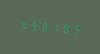eight: (58, 20, 67, 35), (38, 19, 47, 33)
five: (68, 21, 77, 35)
four: (17, 17, 26, 32)
nine: (27, 18, 36, 33)
one: (48, 19, 57, 34)
